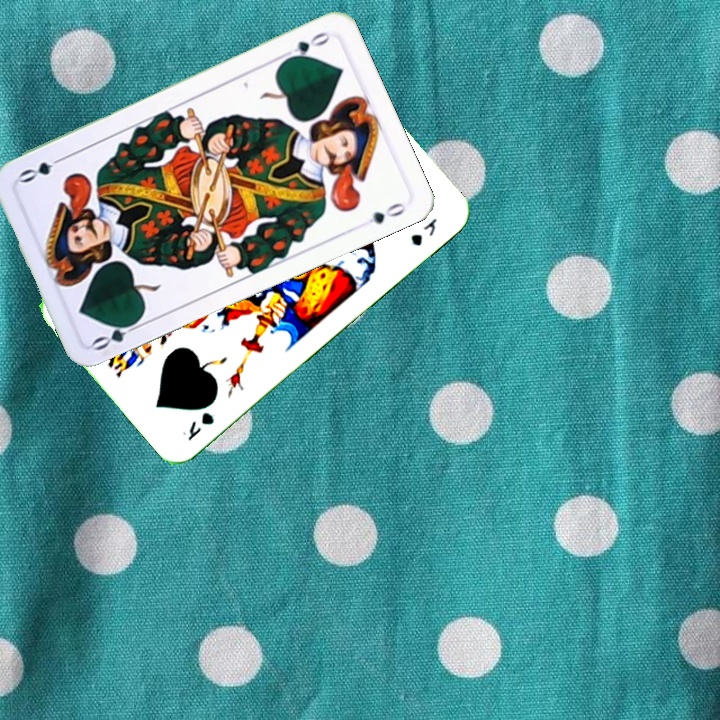GK: (178, 407, 217, 444)
GO: (88, 314, 146, 354), (277, 27, 333, 64)
